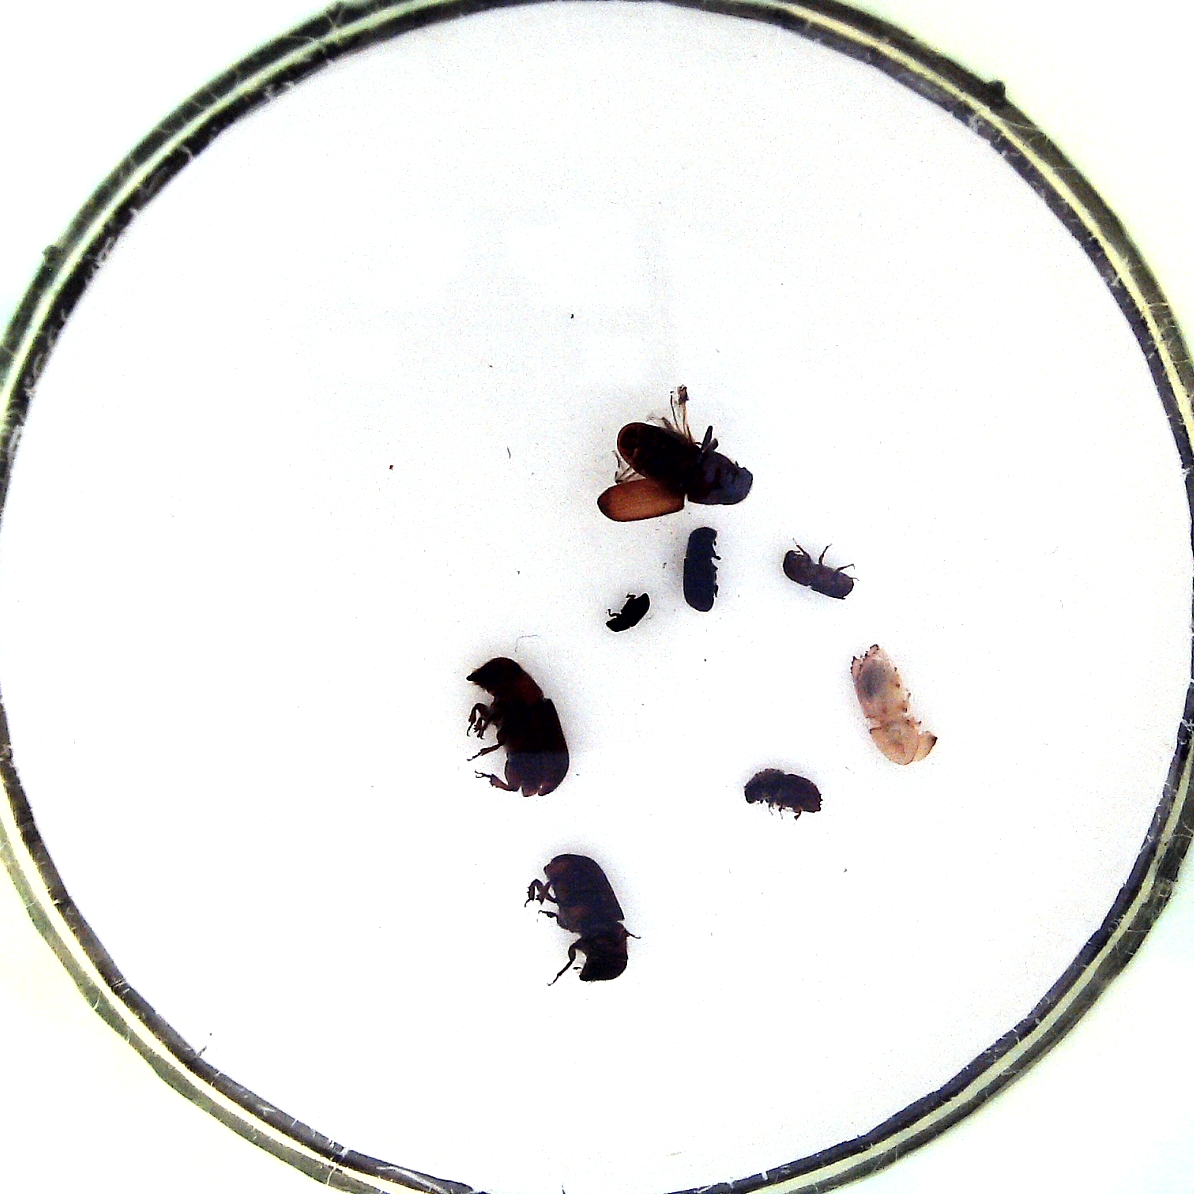Boerner: (847, 641, 941, 769)
Leconte: (593, 389, 758, 522), (520, 847, 637, 985), (463, 654, 572, 800)
Linnaeus: (742, 764, 826, 819)
acuminatus: (779, 536, 861, 601)
armandi: (678, 523, 724, 614)
coleoptera: (602, 585, 655, 636)
